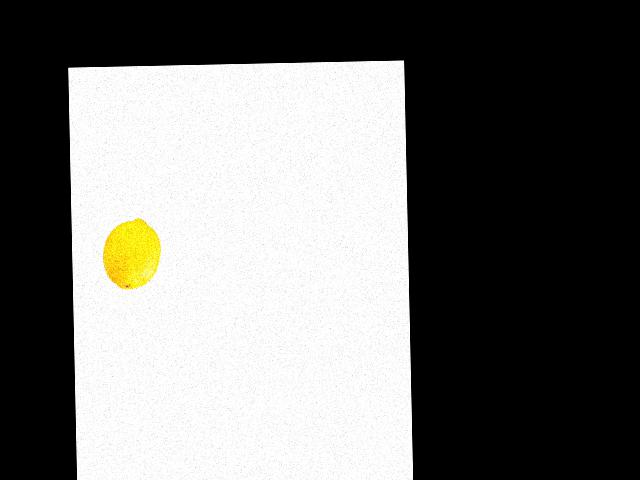lemon: (101, 216, 163, 290)
